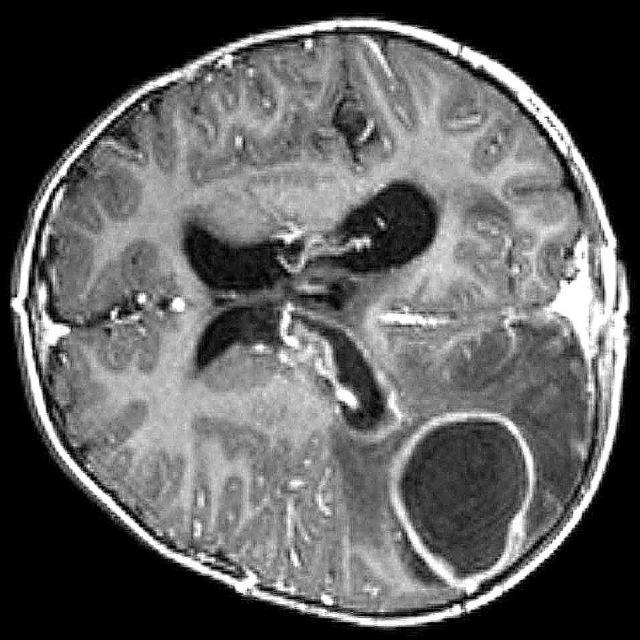tumor: (382, 407, 535, 583)
